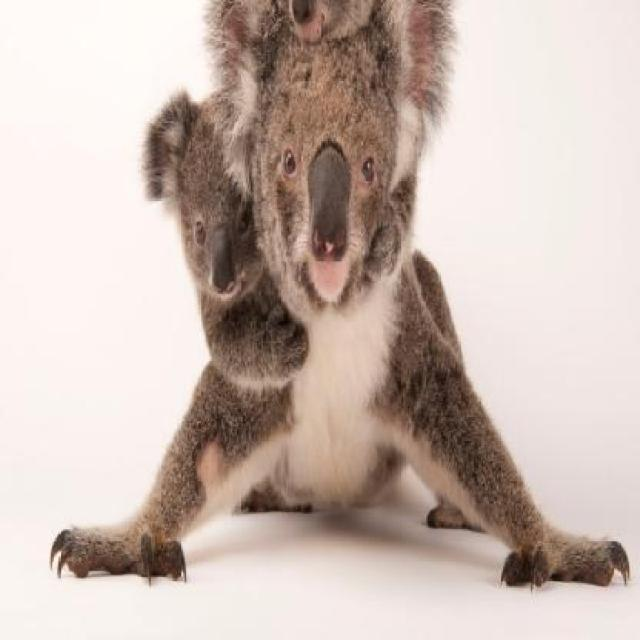Koala: (80, 7, 568, 596)
